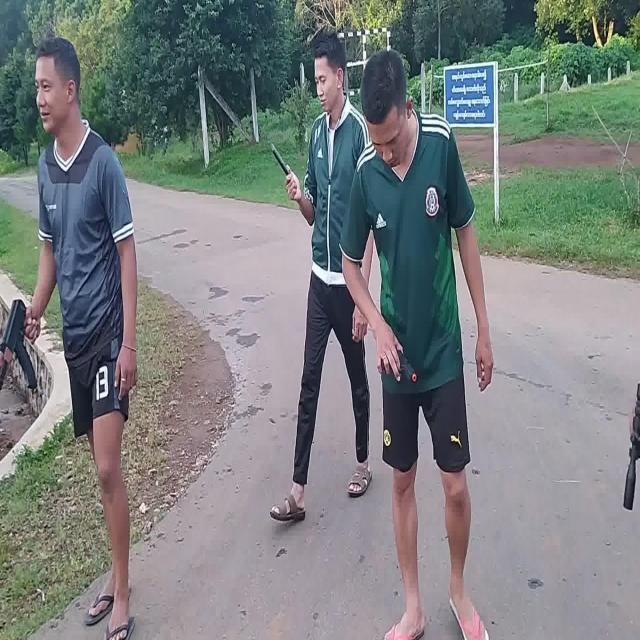gun: (0, 299, 36, 393), (381, 348, 417, 382)
